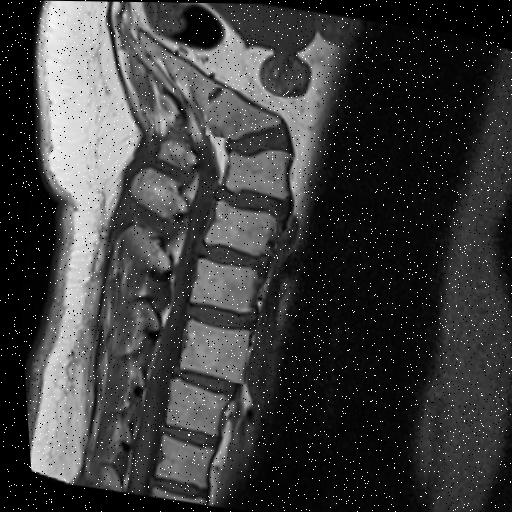L2: (174, 320, 244, 382), (160, 378, 223, 434)
L3: (186, 257, 253, 310)
L4: (205, 200, 271, 254)
L5: (223, 148, 287, 197)
S1: (204, 86, 278, 138)
